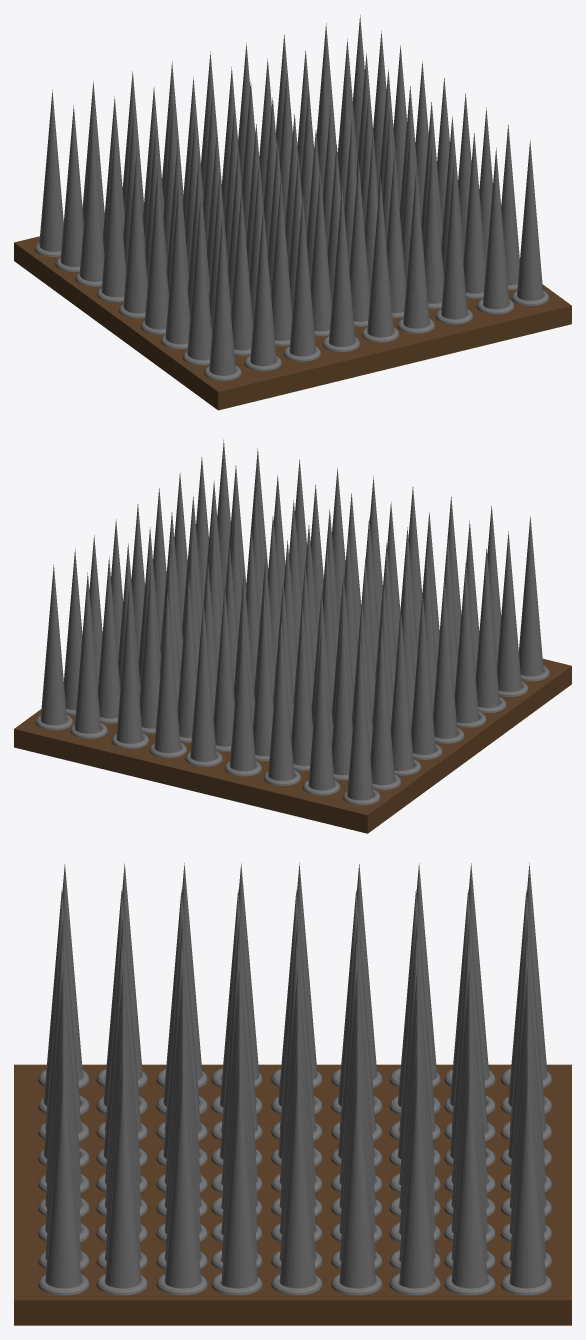
3 renders of one model, top to bottom at view 1: azimuth 30°, elevation 25°; view 2: azimuth 150°, elevation 25°; view 3: azimuth 270°, elevation 25°, orthographic. The views are drawn at different scales.
Visible parts, largest first — view 1: Plane; view 2: Plane; view 3: Plane.
Part boxes in pixels (x1,y1,x2,y2): Plane: [14, 15, 571, 410]; Plane: [14, 439, 571, 833]; Plane: [14, 862, 571, 1325].
Size of the model in its own units: 11.4 by 5.61 by 11.4.
